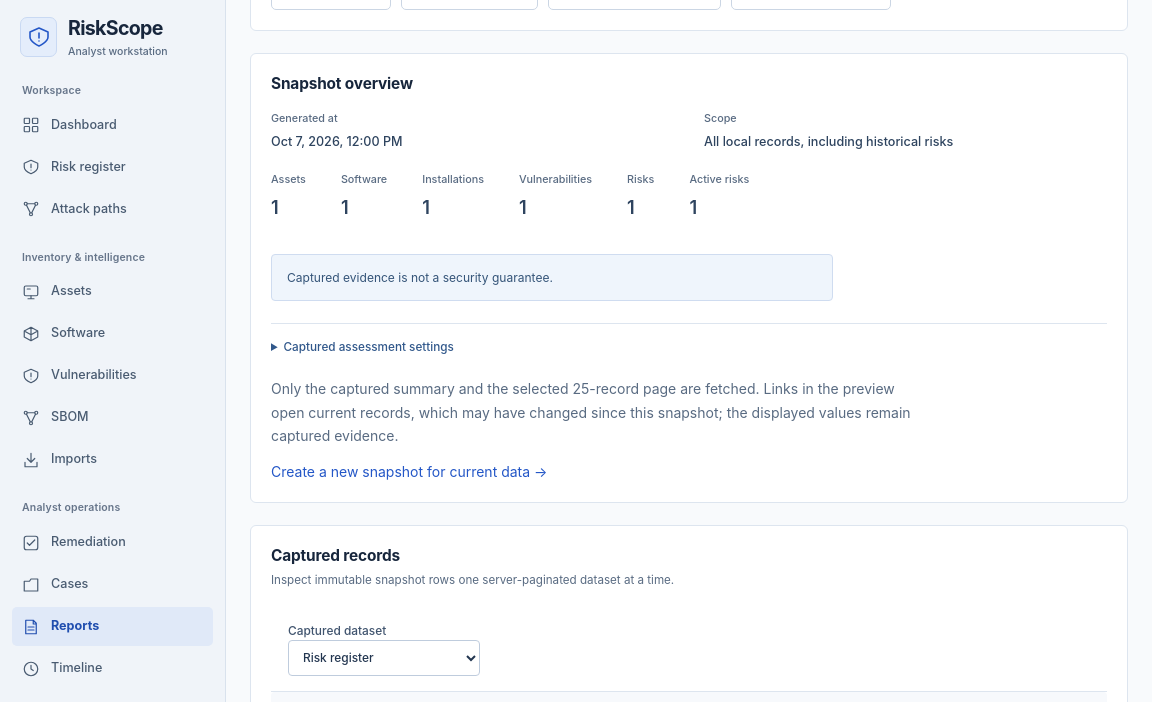
Test: bounded immutable report previews › loads summary-only report detail, captured summary and one snapshot page
(page scrolled)
Check: the text "Captured evidence is not a security guarantee." is shown, box [271,254,833,301]
Click the heading "Captured assessment settings": point(369, 347) [284,340,454,354]
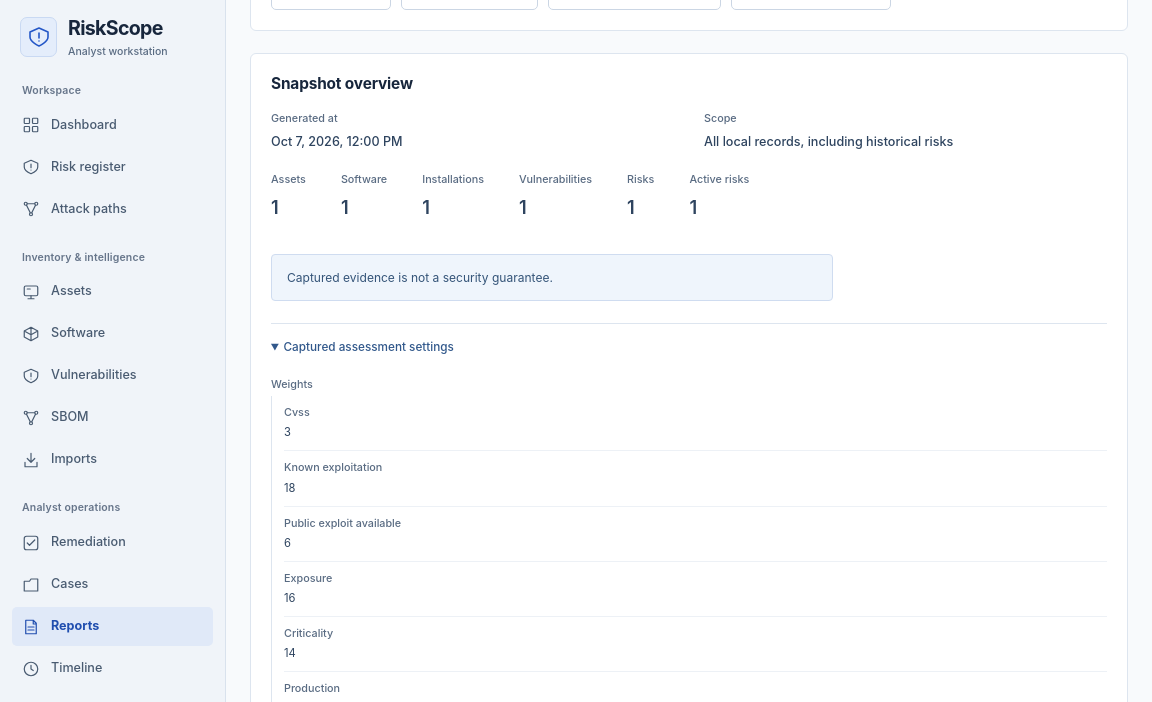
Check: the text "Known exploitation" is shown, box [284,461,382,474]
